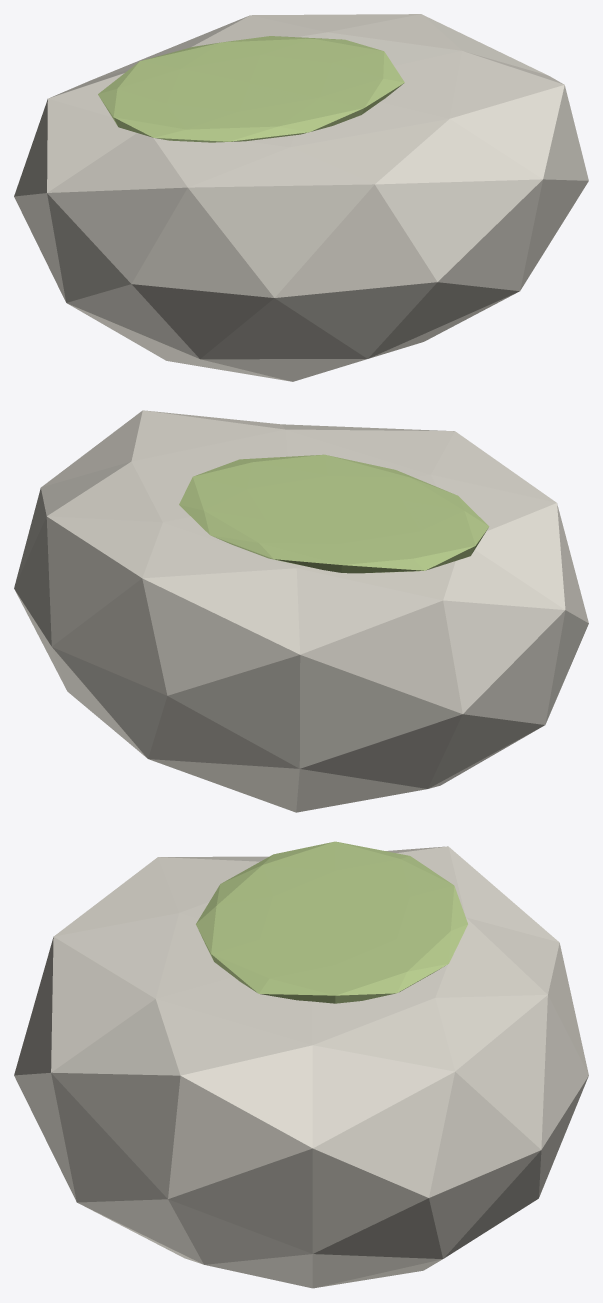
The model's file is rocha_0.fbx.
3 renders of one model, top to bottom at view 1: azimuth 30°, elevation 25°; view 2: azimuth 150°, elevation 25°; view 3: azimuth 270°, elevation 25°, orthographic. The views are drawn at different scales.
Visible parts, largest first — view 1: rocha_0~Pedra@stone, rocha_0~Musgo@moss; view 2: rocha_0~Pedra@stone, rocha_0~Musgo@moss; view 3: rocha_0~Pedra@stone, rocha_0~Musgo@moss.
Boxes of the visible parts, x1=… form: rocha_0~Pedra@stone: x1=14, y1=14, x2=588, y2=381; rocha_0~Musgo@moss: x1=98, y1=36, x2=404, y2=142; rocha_0~Pedra@stone: x1=14, y1=410, x2=588, y2=812; rocha_0~Musgo@moss: x1=179, y1=454, x2=489, y2=573; rocha_0~Pedra@stone: x1=14, y1=846, x2=588, y2=1288; rocha_0~Musgo@moss: x1=196, y1=841, x2=467, y2=1003.
Bounding box in the file's own units: 1.5 × 0.7743 × 1.27.
